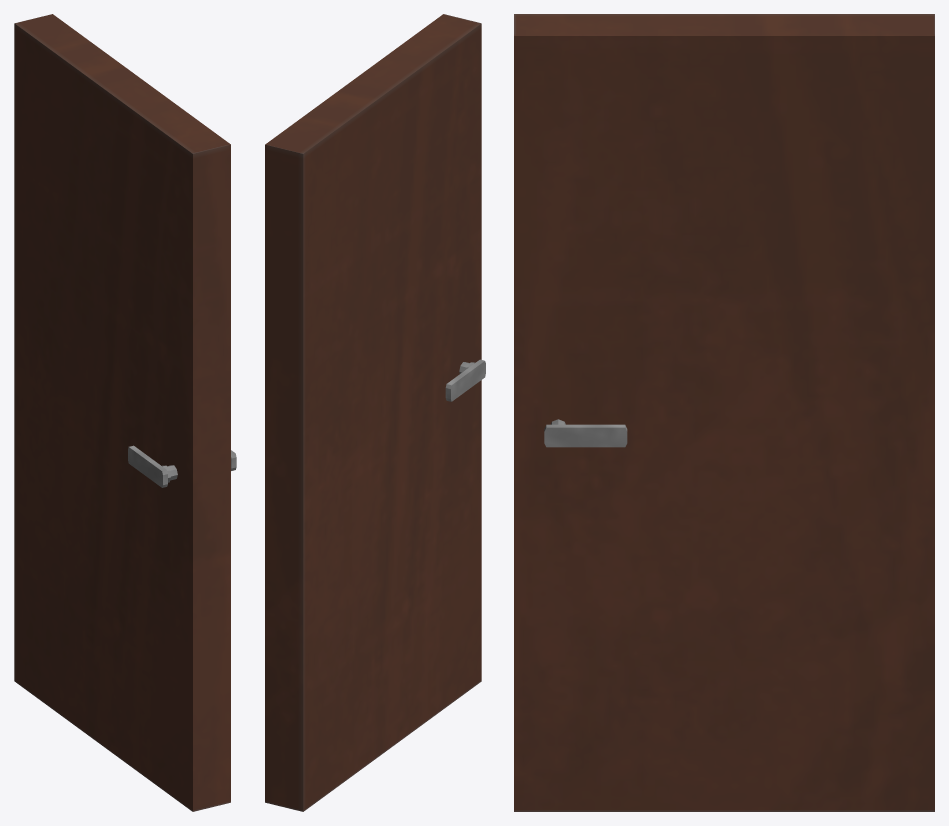
Rendered from door_1.fbx.
3 renders of one model, left to right at view 1: azimuth 30°, elevation 25°; view 2: azimuth 150°, elevation 25°; view 3: azimuth 270°, elevation 25°, orthographic. The views are drawn at different scales.
Visible parts, largest first — view 1: Door; view 2: Door; view 3: Door.
Boxes of the visible parts, bbox=[...] form: Door: bbox=[14, 14, 236, 811]; Door: bbox=[265, 14, 485, 811]; Door: bbox=[514, 14, 934, 811].
Size of the model in its own units: 23.29 by 199 by 97.78.
